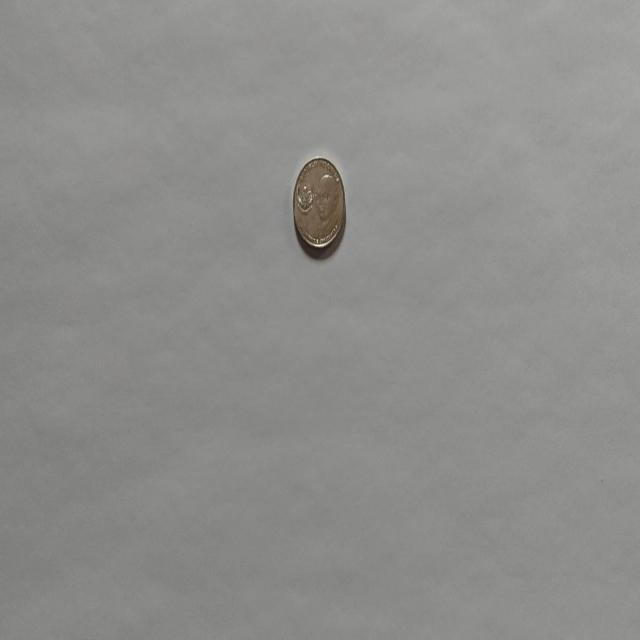lima ratus rupiah: (292, 154, 346, 252)
